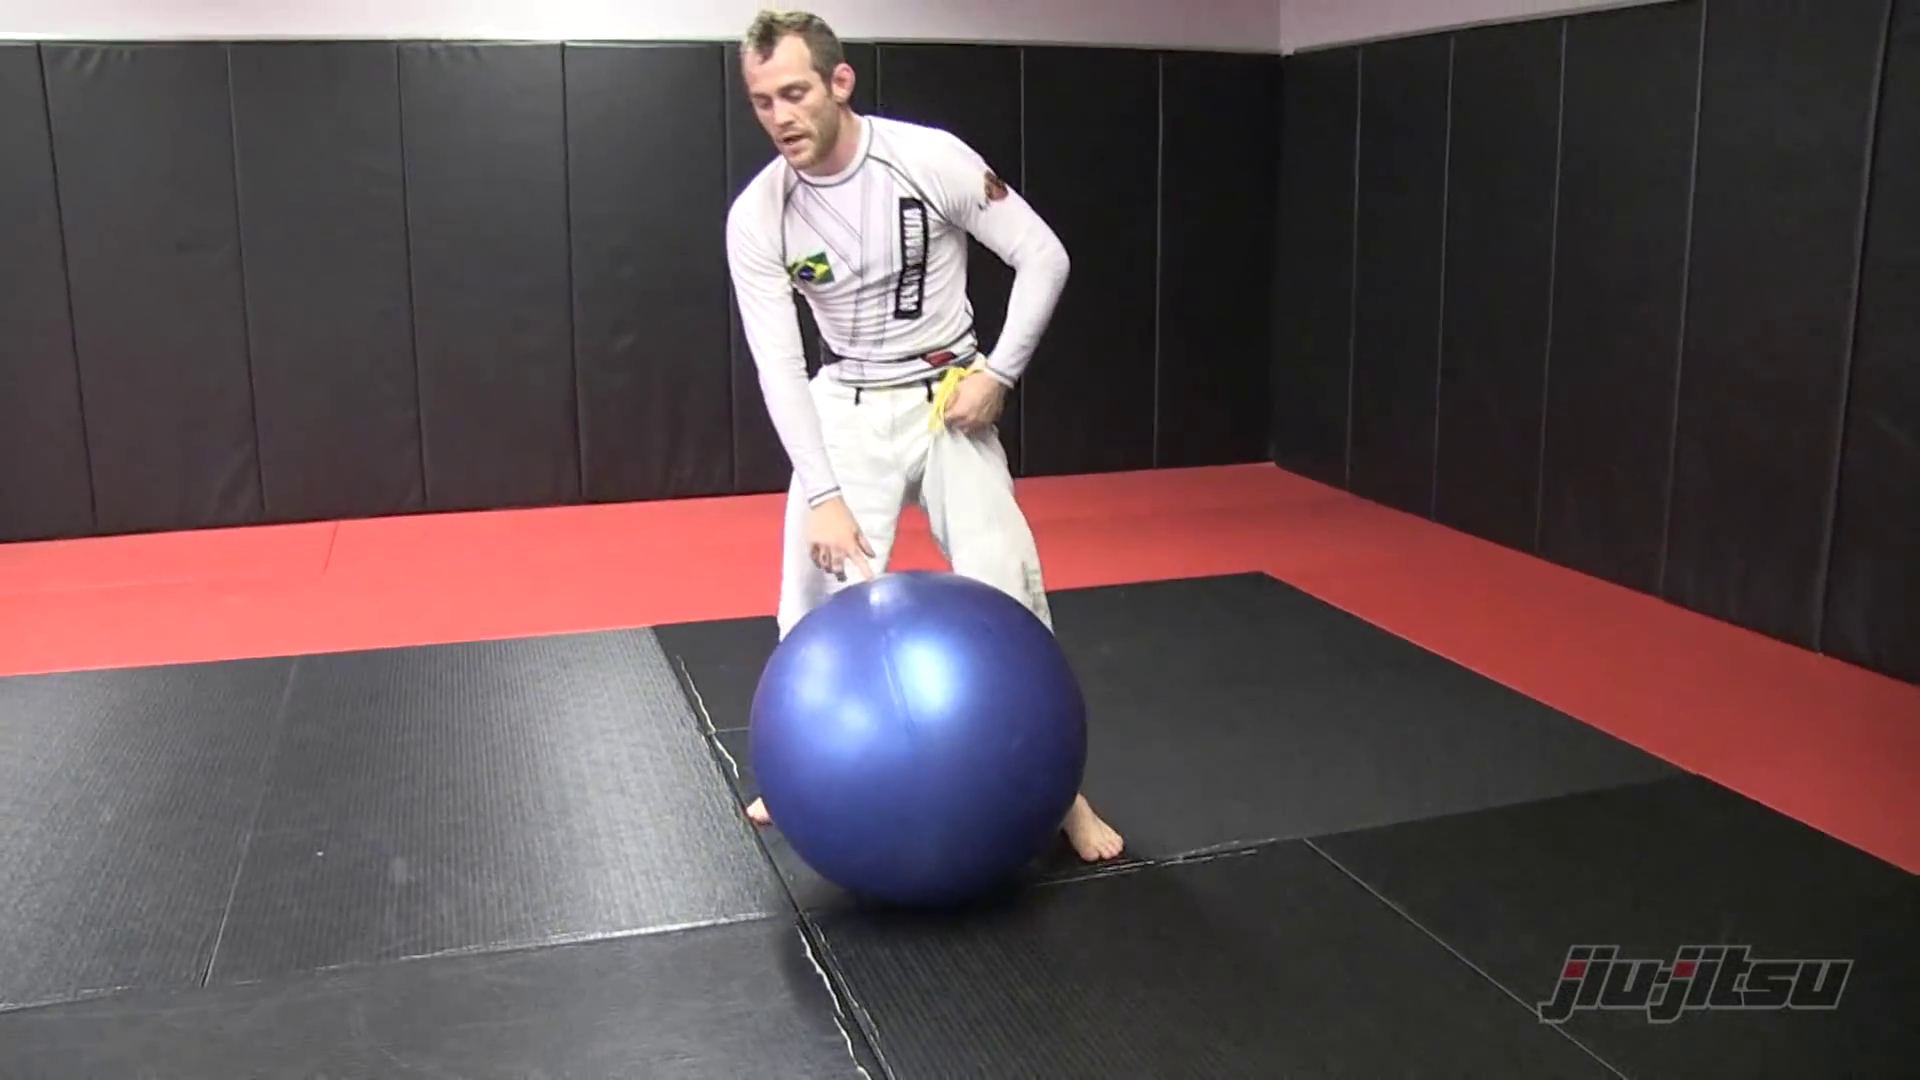yogaball: (733, 551, 1114, 932)
